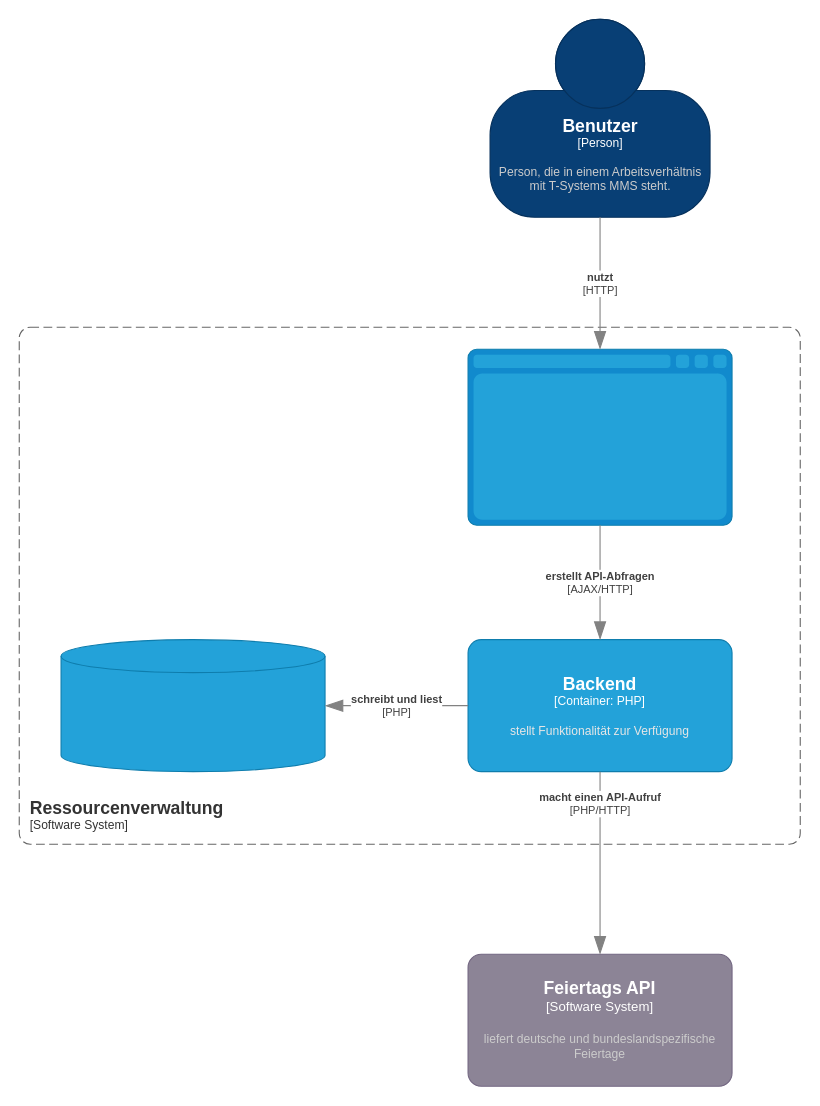
The diagram is 820 pixels wide and 1106 high, and some of its shapes have lost their labels. Each missing label, with the box of its shape:
Datenbank [Container: Maria DB] Speichert Datenbankobjekte: (60, 639, 325, 772)
Webbrowser [Container: JavaScript] stellt User-Interface zur Verfügung: (467, 348, 732, 525)
